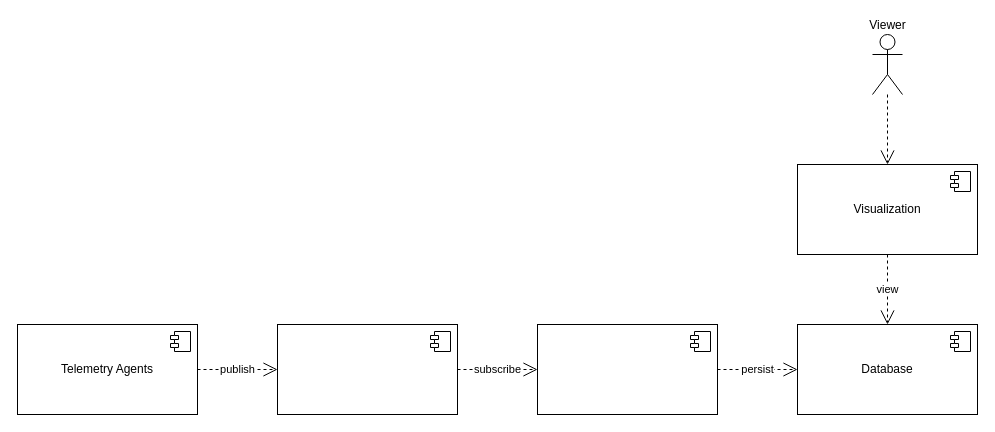
Some shapes in this 995 by 432 pixel diagram are drawn without their labels. Here are the shapes that lost their labels. From the top down, the centre of each, then its label:
At pixel 367 369: "MQTT Broker".
At pixel 627 369: "Telemetry Pipeline".
